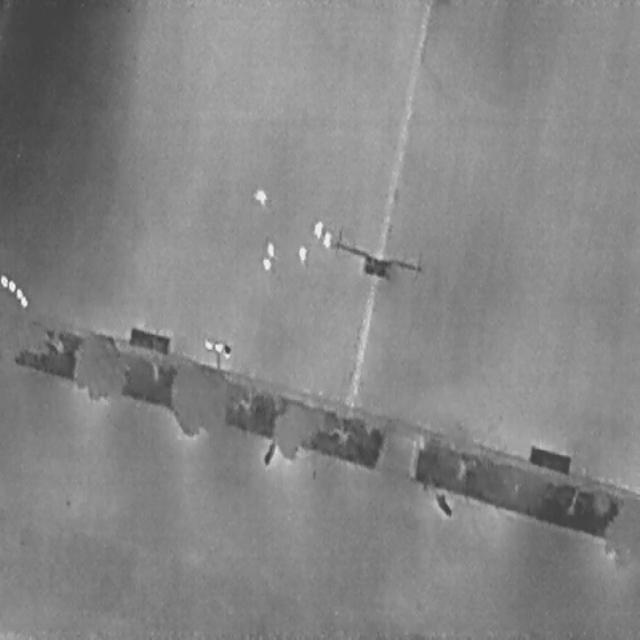Person: (298, 244, 307, 264), (313, 218, 322, 238), (322, 228, 331, 248), (255, 186, 266, 202), (265, 239, 274, 256), (261, 255, 270, 269)
